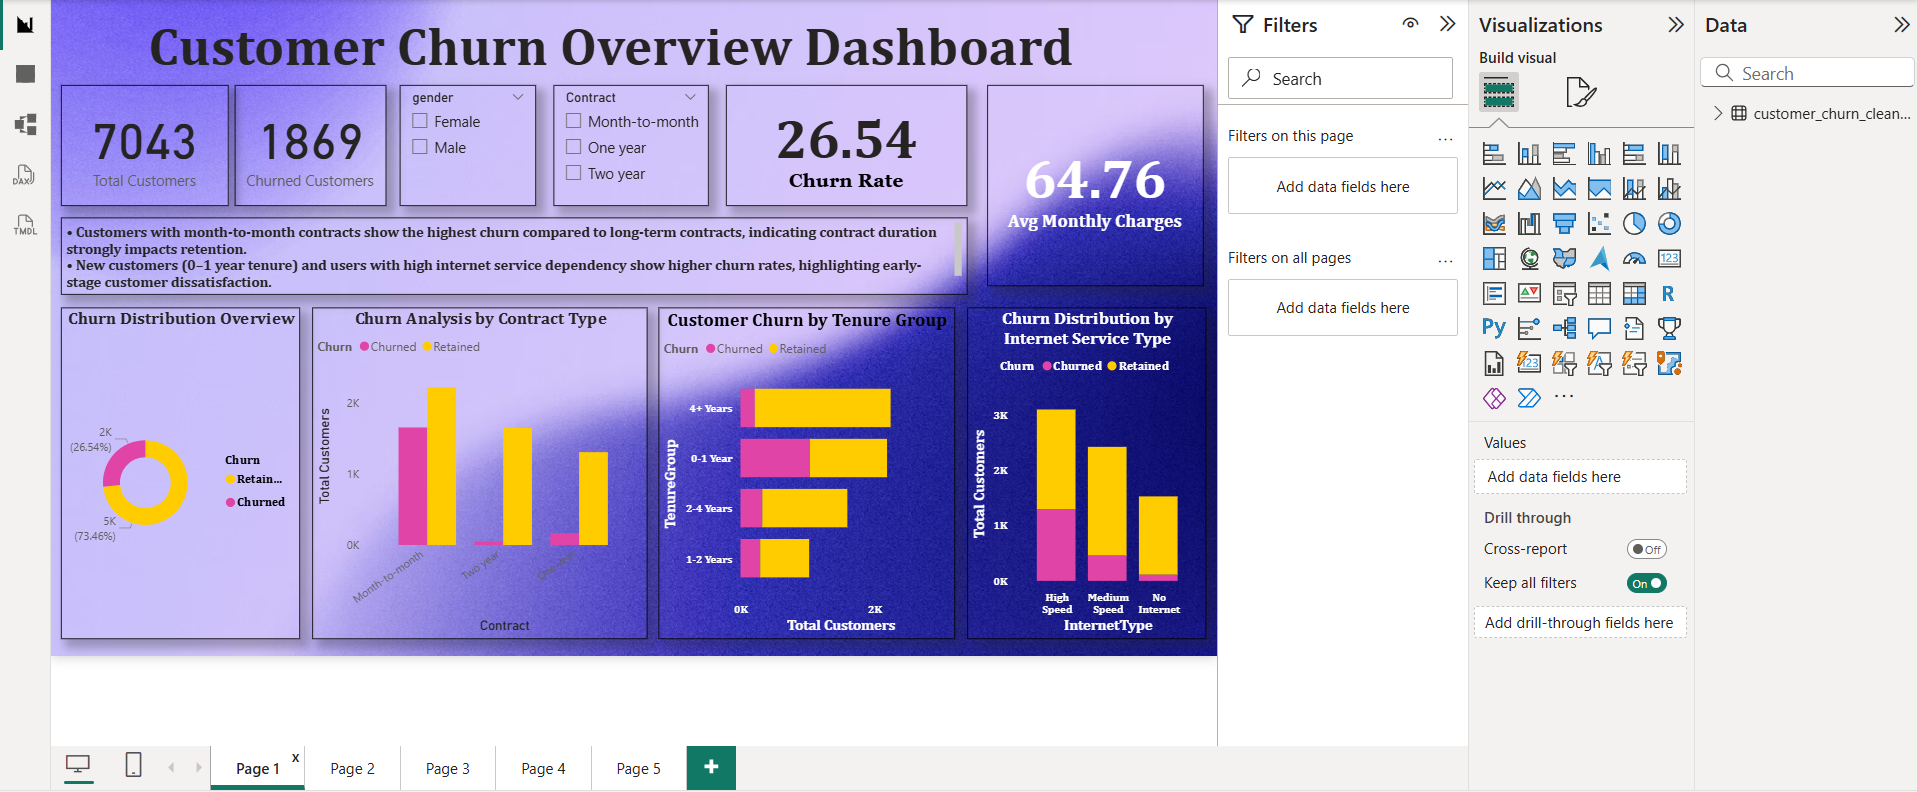

Layout of this report page (visuals, bound fields, positions):
{"tool":"powerbi","page":{"name":"Page 1","canvas":[1280,720],"ordinal":0},"visuals":[{"type":"textbox","box":[61.7,11,1106,82.3],"z":0},{"type":"card","fields":{"Values":["customer_churn_cleaned.Total Customers"]},"box":[11,93.3,183.9,133.1],"z":1000},{"type":"card","fields":{"Values":["customer_churn_cleaned.Churned Customers"]},"box":[201.7,93.3,166,133.1],"z":2000},{"type":"card","fields":{"Values":["customer_churn_cleaned.Churn Rate"]},"box":[741,93.3,264.8,133.1],"z":3000},{"type":"card","fields":{"Values":["customer_churn_cleaned.Avg Monthly Charges"]},"box":[1027.8,93.3,237.4,220.9],"z":4000},{"type":"donutChart","title":"Churn Distribution Overview","fields":{"Category":["customer_churn_cleaned.Churn"],"Y":["customer_churn_cleaned.Total Customers"]},"box":[11,337.6,262.1,363.6],"z":5000},{"type":"clusteredColumnChart","title":"Churn Analysis by Contract Type","fields":{"Category":["customer_churn_cleaned.Contract"],"Series":["customer_churn_cleaned.Churn"],"Y":["customer_churn_cleaned.Total Customers"]},"box":[286.8,337.6,367.8,363.6],"z":6000},{"type":"barChart","title":"Customer Churn by Tenure Group","fields":{"Category":["customer_churn_cleaned.TenureGroup"],"Series":["customer_churn_cleaned.Churn"],"Y":["customer_churn_cleaned.Total Customers"]},"box":[666.9,337.6,325.2,363.6],"z":7000},{"type":"columnChart","title":"Churn Distribution by Internet Service Type","fields":{"Category":["customer_churn_cleaned.InternetType"],"Series":["customer_churn_cleaned.Churn"],"Y":["customer_churn_cleaned.Total Customers"]},"box":[1005.8,337.6,262.1,363.6],"z":8000},{"type":"slicer","fields":{"Values":["customer_churn_cleaned.gender"]},"box":[382.8,93.3,149.6,133.1],"z":9000},{"type":"slicer","fields":{"Values":["customer_churn_cleaned.Contract"]},"box":[551.6,93.3,170.2,133.1],"z":10000},{"type":"textbox","box":[11,238.8,994.9,85.1],"z":11000}]}

Visuals, with their boxes on the page's 1280x720 design canvas (x1, y1, x2, y2). These are canvas units, not pixel positions in the 1917x792 screenshot, which may show the page scaled, cropped or inside an application window:
textbox: pyautogui.locateOnScreen(62, 11, 1168, 93)
card - customer_churn_cleaned.Total Customers: pyautogui.locateOnScreen(11, 93, 195, 226)
card - customer_churn_cleaned.Churned Customers: pyautogui.locateOnScreen(202, 93, 368, 226)
card - customer_churn_cleaned.Churn Rate: pyautogui.locateOnScreen(741, 93, 1006, 226)
card - customer_churn_cleaned.Avg Monthly Charges: pyautogui.locateOnScreen(1028, 93, 1265, 314)
"Churn Distribution Overview" donutChart: pyautogui.locateOnScreen(11, 338, 273, 701)
"Churn Analysis by Contract Type" clusteredColumnChart: pyautogui.locateOnScreen(287, 338, 655, 701)
"Customer Churn by Tenure Group" barChart: pyautogui.locateOnScreen(667, 338, 992, 701)
"Churn Distribution by Internet Service Type" columnChart: pyautogui.locateOnScreen(1006, 338, 1268, 701)
slicer - customer_churn_cleaned.gender: pyautogui.locateOnScreen(383, 93, 532, 226)
slicer - customer_churn_cleaned.Contract: pyautogui.locateOnScreen(552, 93, 722, 226)
textbox: pyautogui.locateOnScreen(11, 239, 1006, 324)
